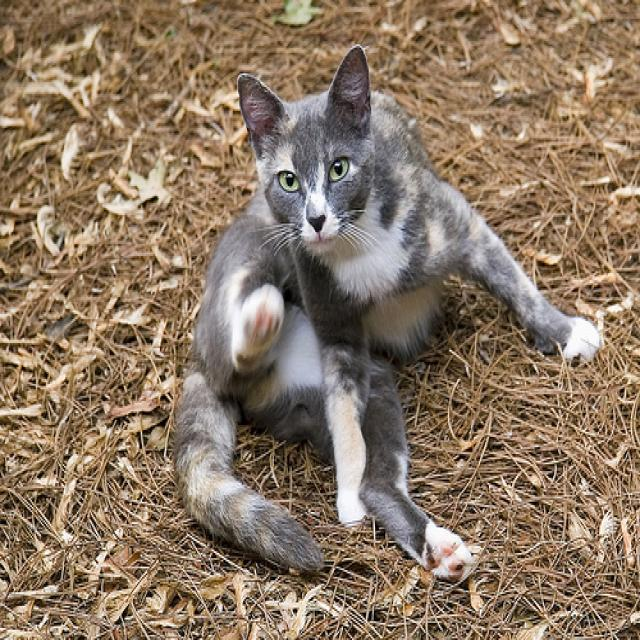left eye: (326, 154, 349, 182)
